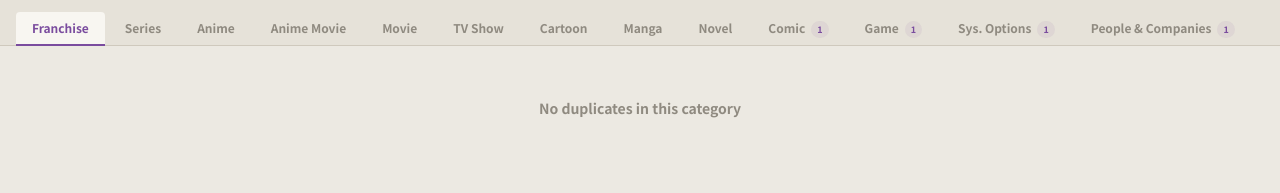
Test: renders an entity cluster's names
Click the tab "People & Companies1" at (1163, 29), box [1075,12,1251,46]
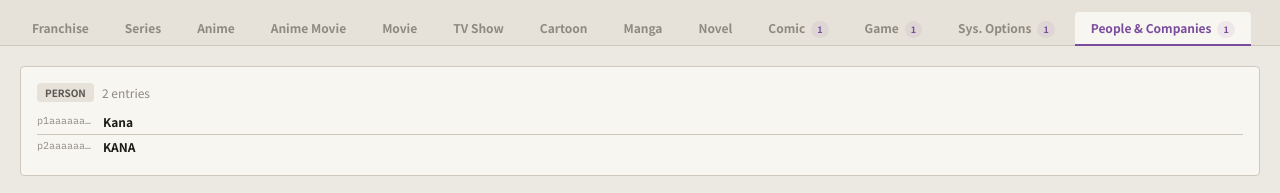
Check: the text "person" is shown, box [37,83,94,102]
Check: the text "KANA" is shown, box [103,139,135,155]
